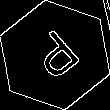P_SE: (24, 24, 86, 86)
